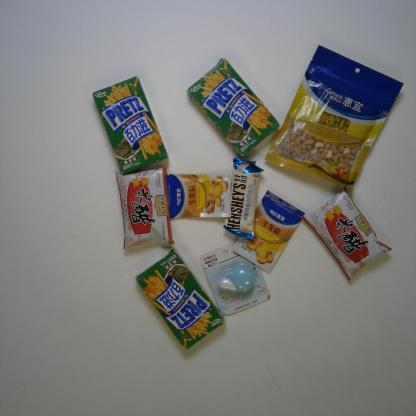Chocolate: (223, 157, 264, 238)
Dessert: (186, 58, 281, 156), (135, 250, 227, 349), (91, 75, 170, 174)
Dried Fruit: (264, 45, 404, 188)
Seasoner: (300, 187, 391, 281), (232, 190, 306, 274), (114, 168, 176, 252), (166, 172, 232, 219)
Stationery: (200, 244, 272, 317)
